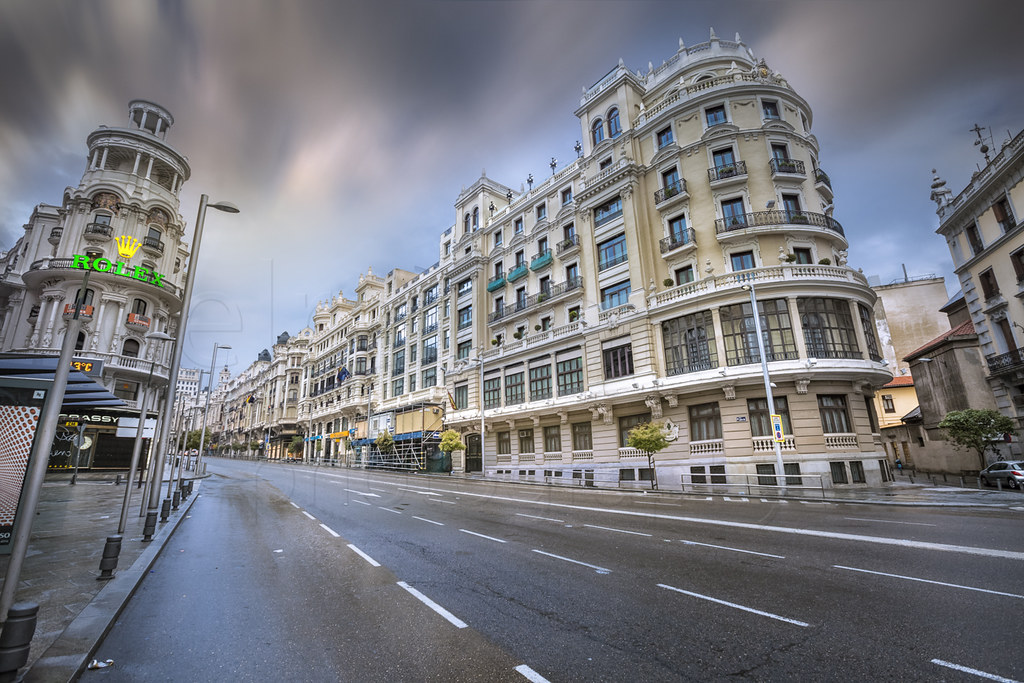strada: (34, 492, 1024, 682)
